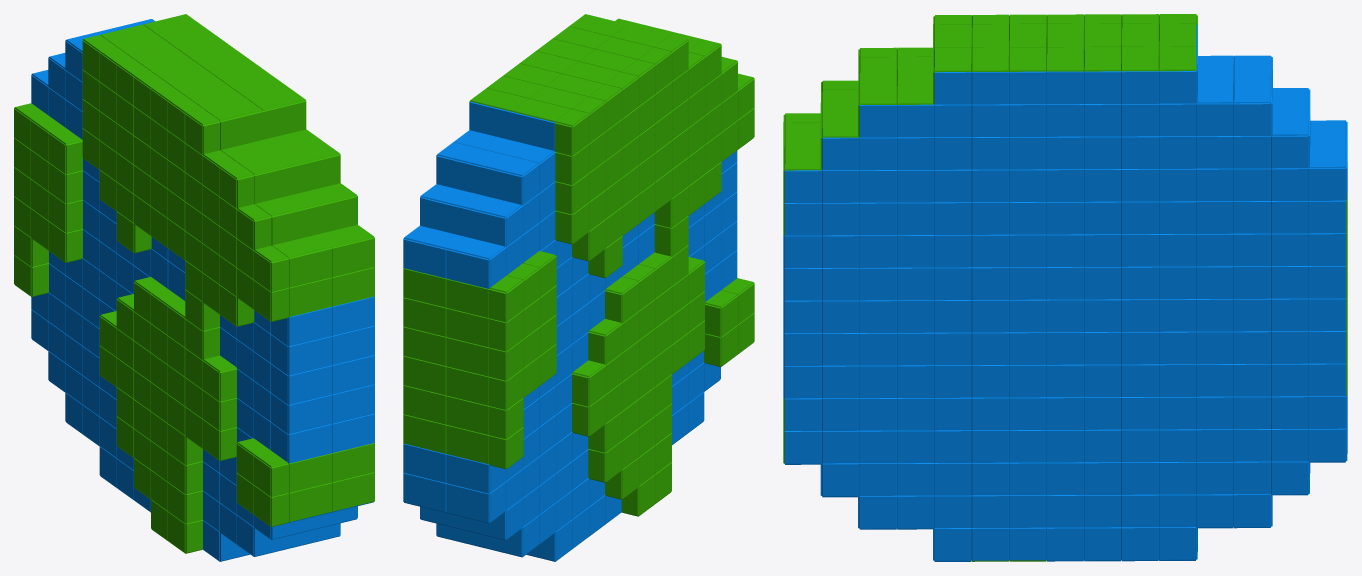
File: Globe_4.glb
3 views of the same model, side by side, from view 1: azimuth 30°, elevation 25°; view 2: azimuth 150°, elevation 25°; view 3: azimuth 270°, elevation 25° (orthographic). The views are drawn at different scales.
Parts seen in each view (by area): view 1: Box001; view 2: Box001; view 3: Box001.
Boxes of the visible parts, x1=… form: Box001: x1=14, y1=14, x2=374, y2=561; Box001: x1=403, y1=14, x2=754, y2=561; Box001: x1=783, y1=14, x2=1347, y2=561.
Bounding box in the file's own units: 0.9739 × 3.78 × 3.94.
